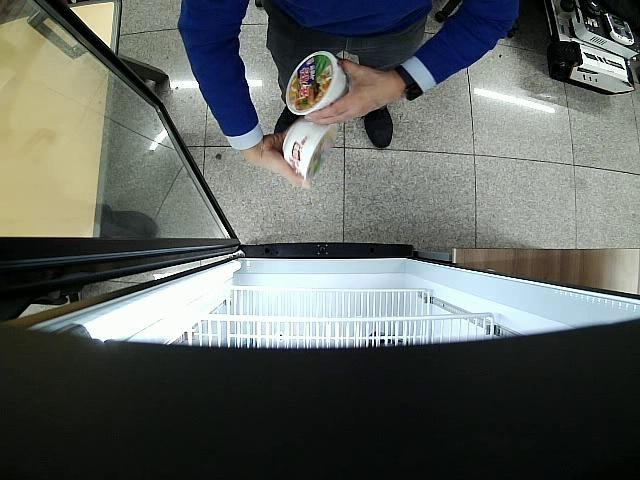09_yukGaeJang: (286, 52, 348, 115), (282, 120, 336, 180)
